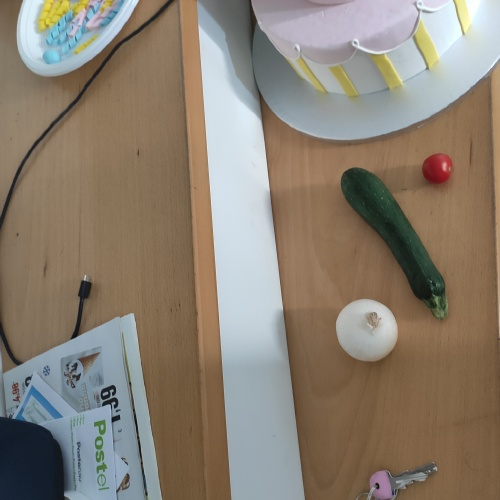cipolla: (340, 302, 396, 355)
pomodoro: (423, 148, 454, 186)
zucchine: (343, 167, 466, 318)
